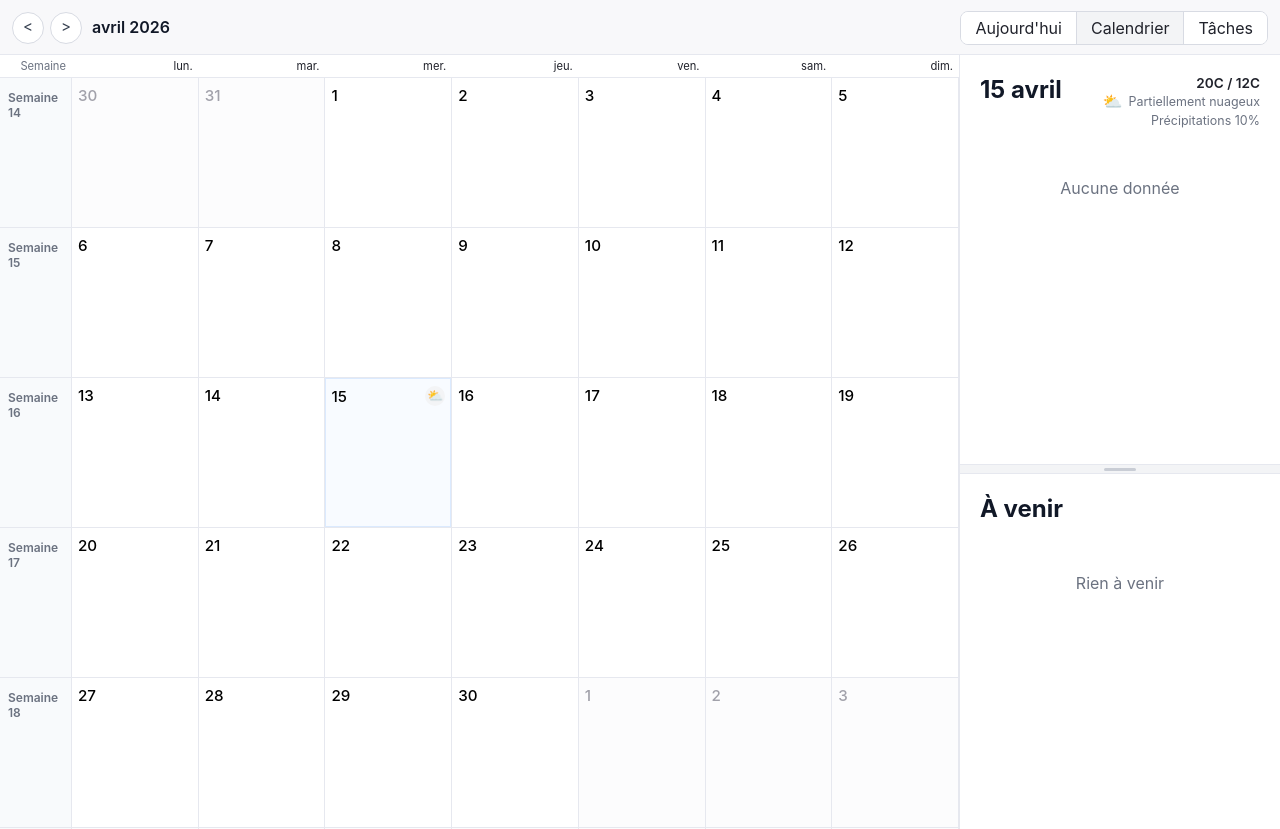
Test: AgendaApp › localizes weather labels in French from icon keys while preserving fallback labels
Expected: the picture named "Partiellement nuageux" is shown, [425, 386, 445, 406]
Expected: the text "Partiellement nuageux" is shown, [1128, 94, 1260, 108]
Step 1. Click the button named "jeudi 16 avril 2026" → (515, 453), box [452, 378, 579, 528]
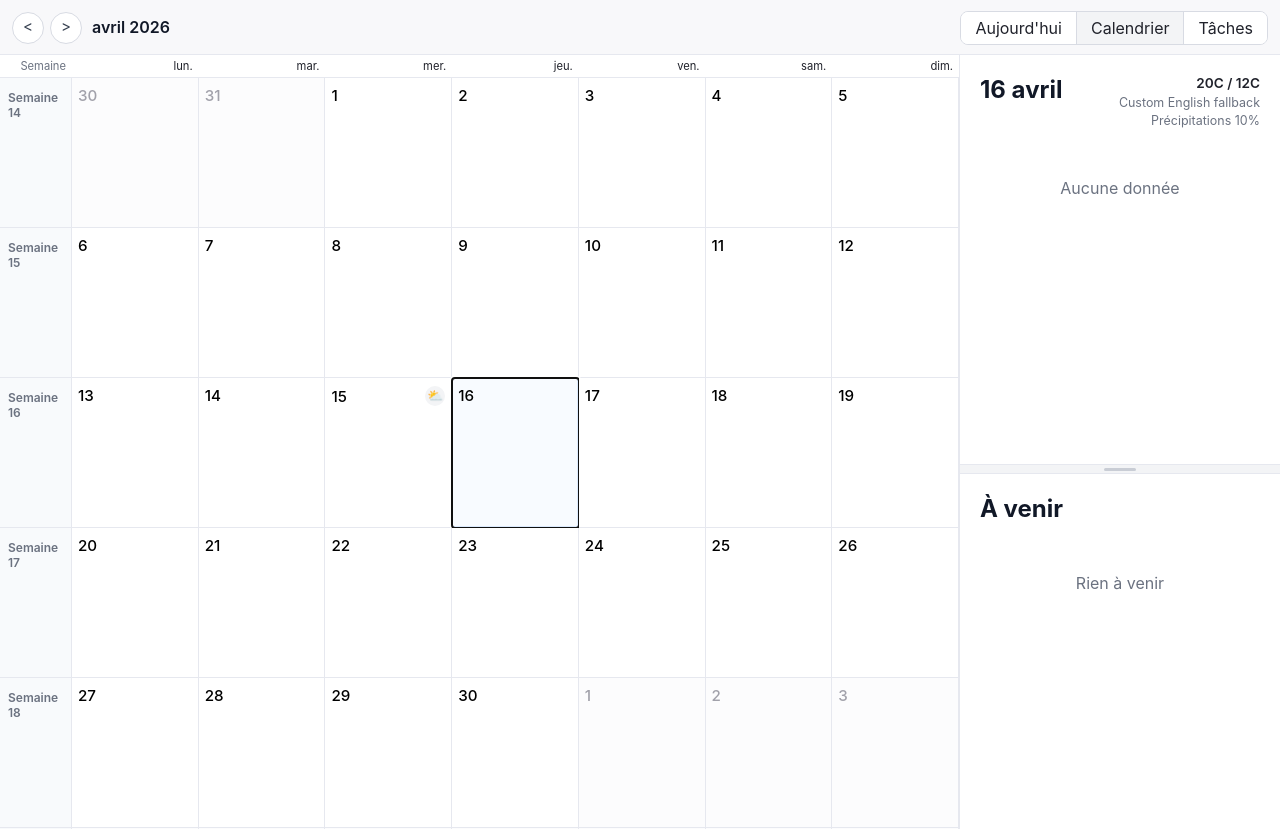
Now the text "Custom English fallback" is shown, box [1119, 95, 1260, 110]
